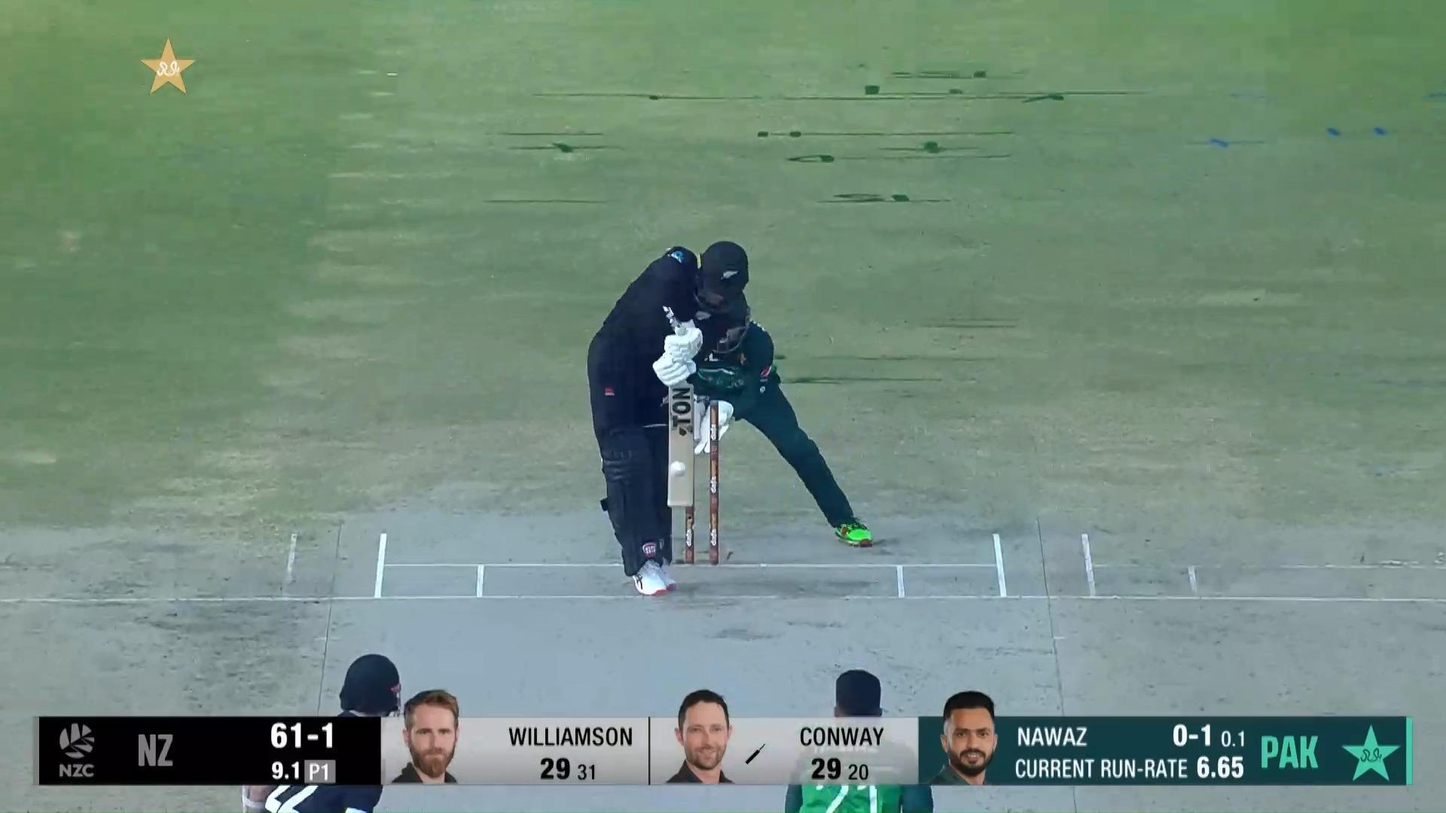BM 1: (586, 241, 752, 597)
BO: (784, 667, 935, 813)
